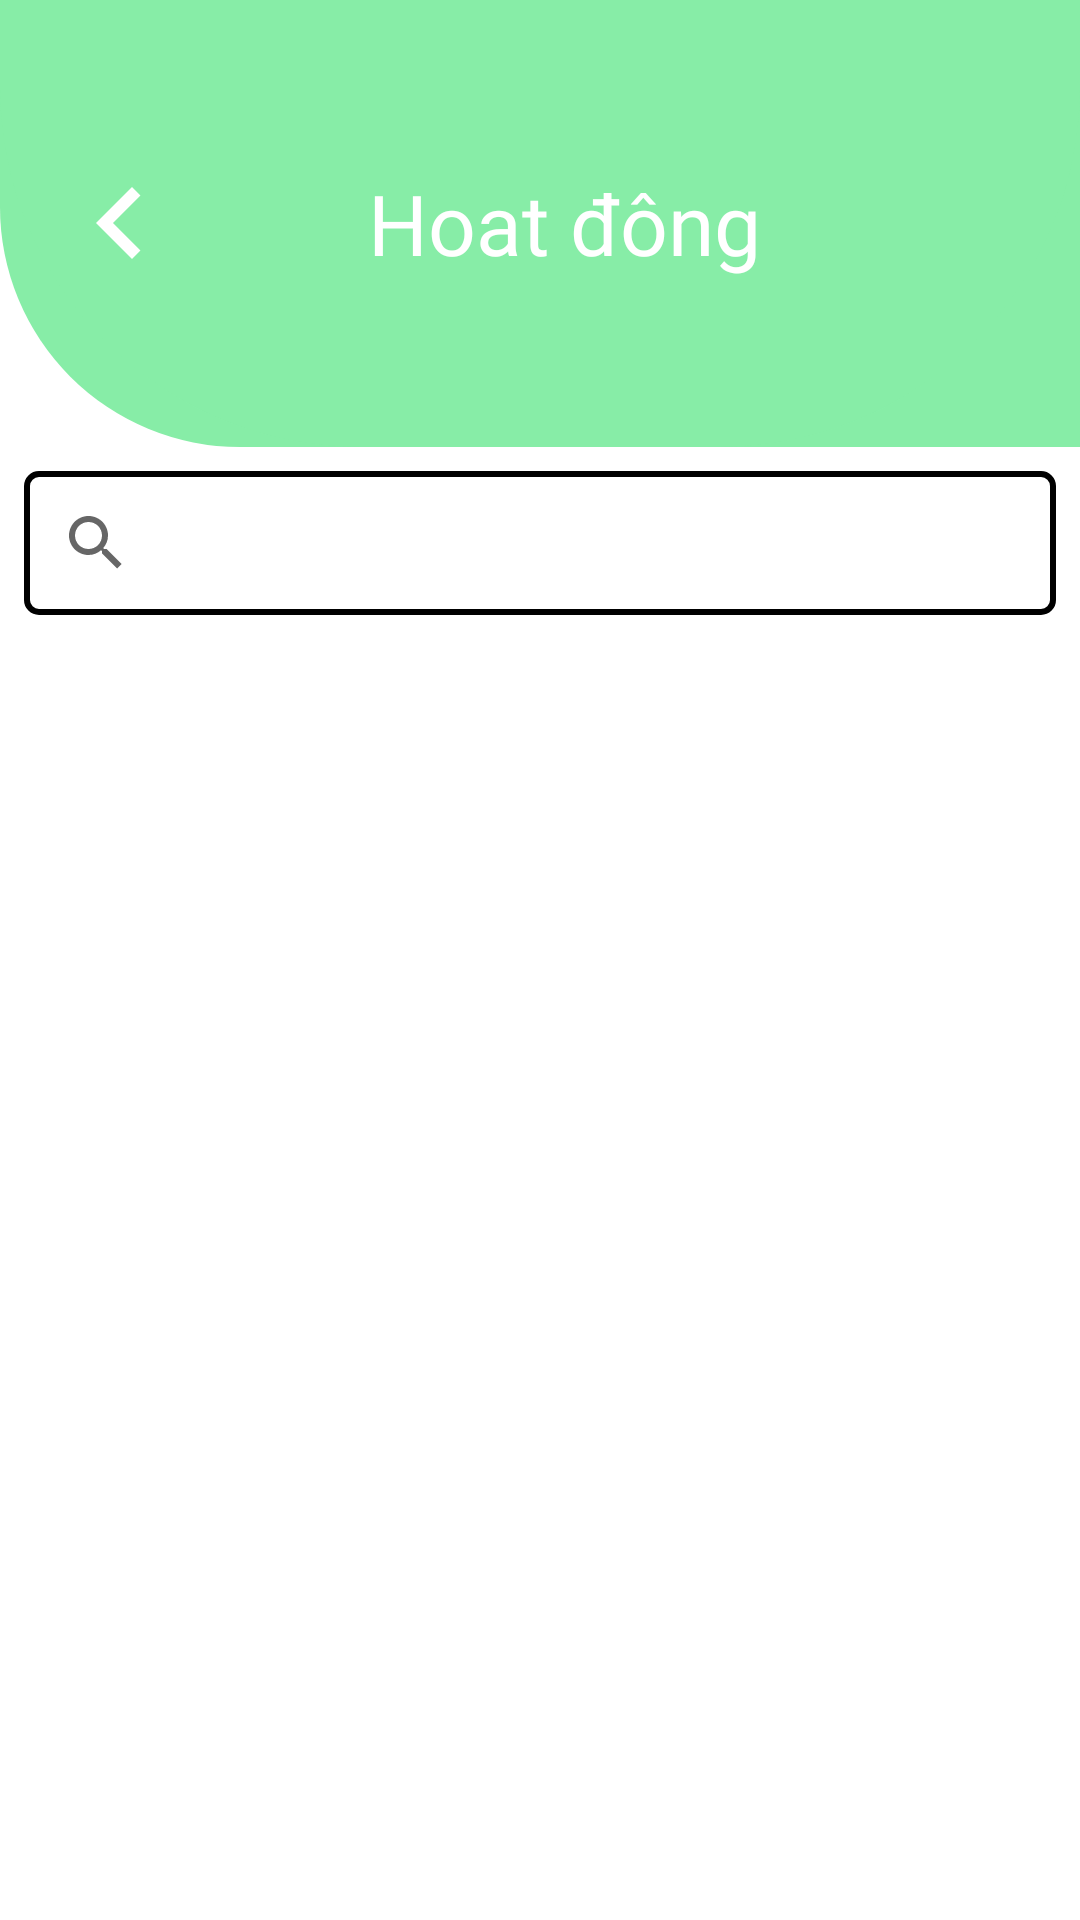

Where icons sit on this 1080px×1920px app screen, as (x1, y1, x2, y2):
Back: (96, 187, 140, 259)
